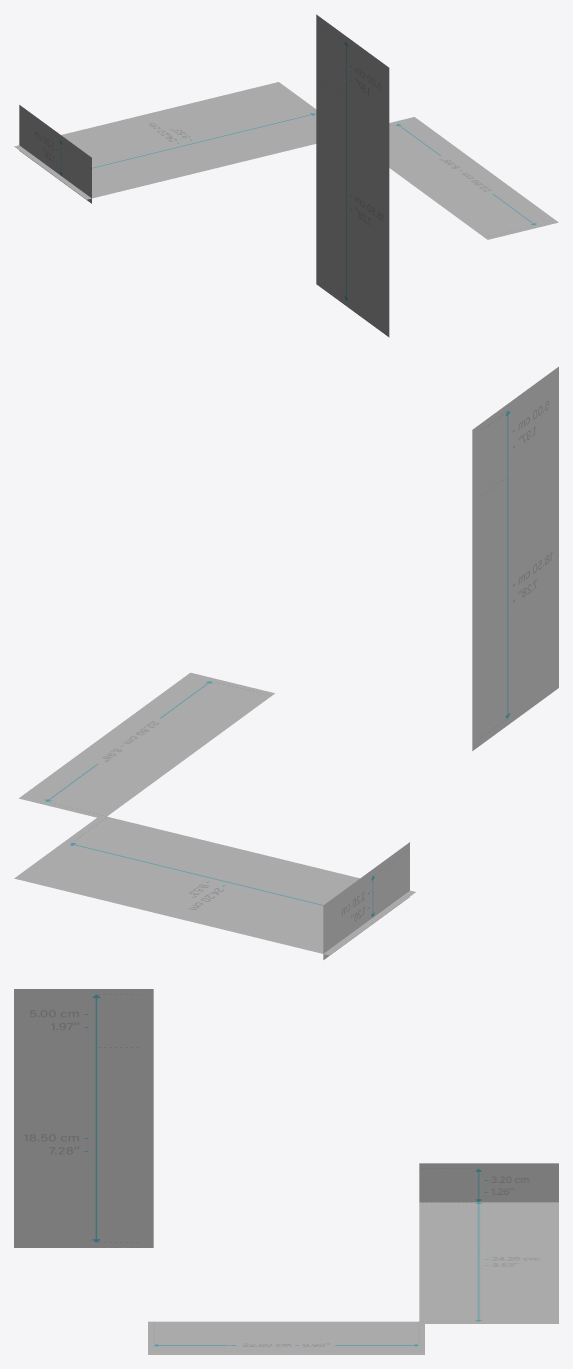
File: OneLaptopPerChild_Laptop_Measurements.glb
3 views of the same model, one above another, from view 1: azimuth 30°, elevation 25°; view 2: azimuth 150°, elevation 25°; view 3: azimuth 270°, elevation 25° (orthographic). The views are drawn at different scales.
Parts seen in each view (by area): view 1: Plane.003, Plane.002, Plane, Plane.004; view 2: Plane.003, Plane.002, Plane, Plane.004; view 3: Plane.003, Plane.002, Plane, Plane.004.
Boxes of the visible parts, x1,y1,x2,y2 form: Plane.003: (316, 14, 389, 337); Plane.002: (14, 82, 316, 199); Plane: (389, 117, 558, 239); Plane.004: (19, 105, 91, 203); Plane.003: (472, 366, 558, 750); Plane.002: (14, 816, 415, 955); Plane: (19, 672, 274, 818); Plane.004: (323, 842, 409, 959); Plane.003: (14, 989, 153, 1247); Plane.002: (419, 1202, 558, 1323); Plane: (148, 1321, 424, 1354); Plane.004: (419, 1163, 558, 1202).
Bounding box in the file's own units: 0.3148 × 0.2454 × 0.468.
1 material, 1 textured.
